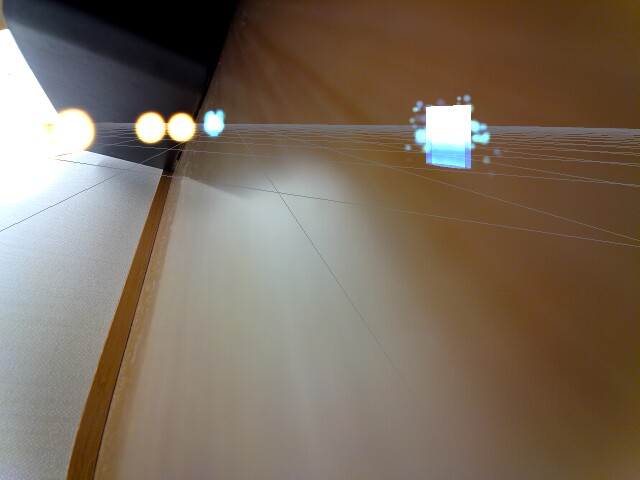firebig: (0, 68, 52, 210)
